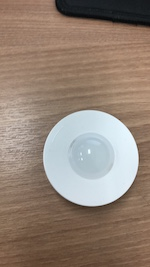bulb: (42, 110, 139, 207)
